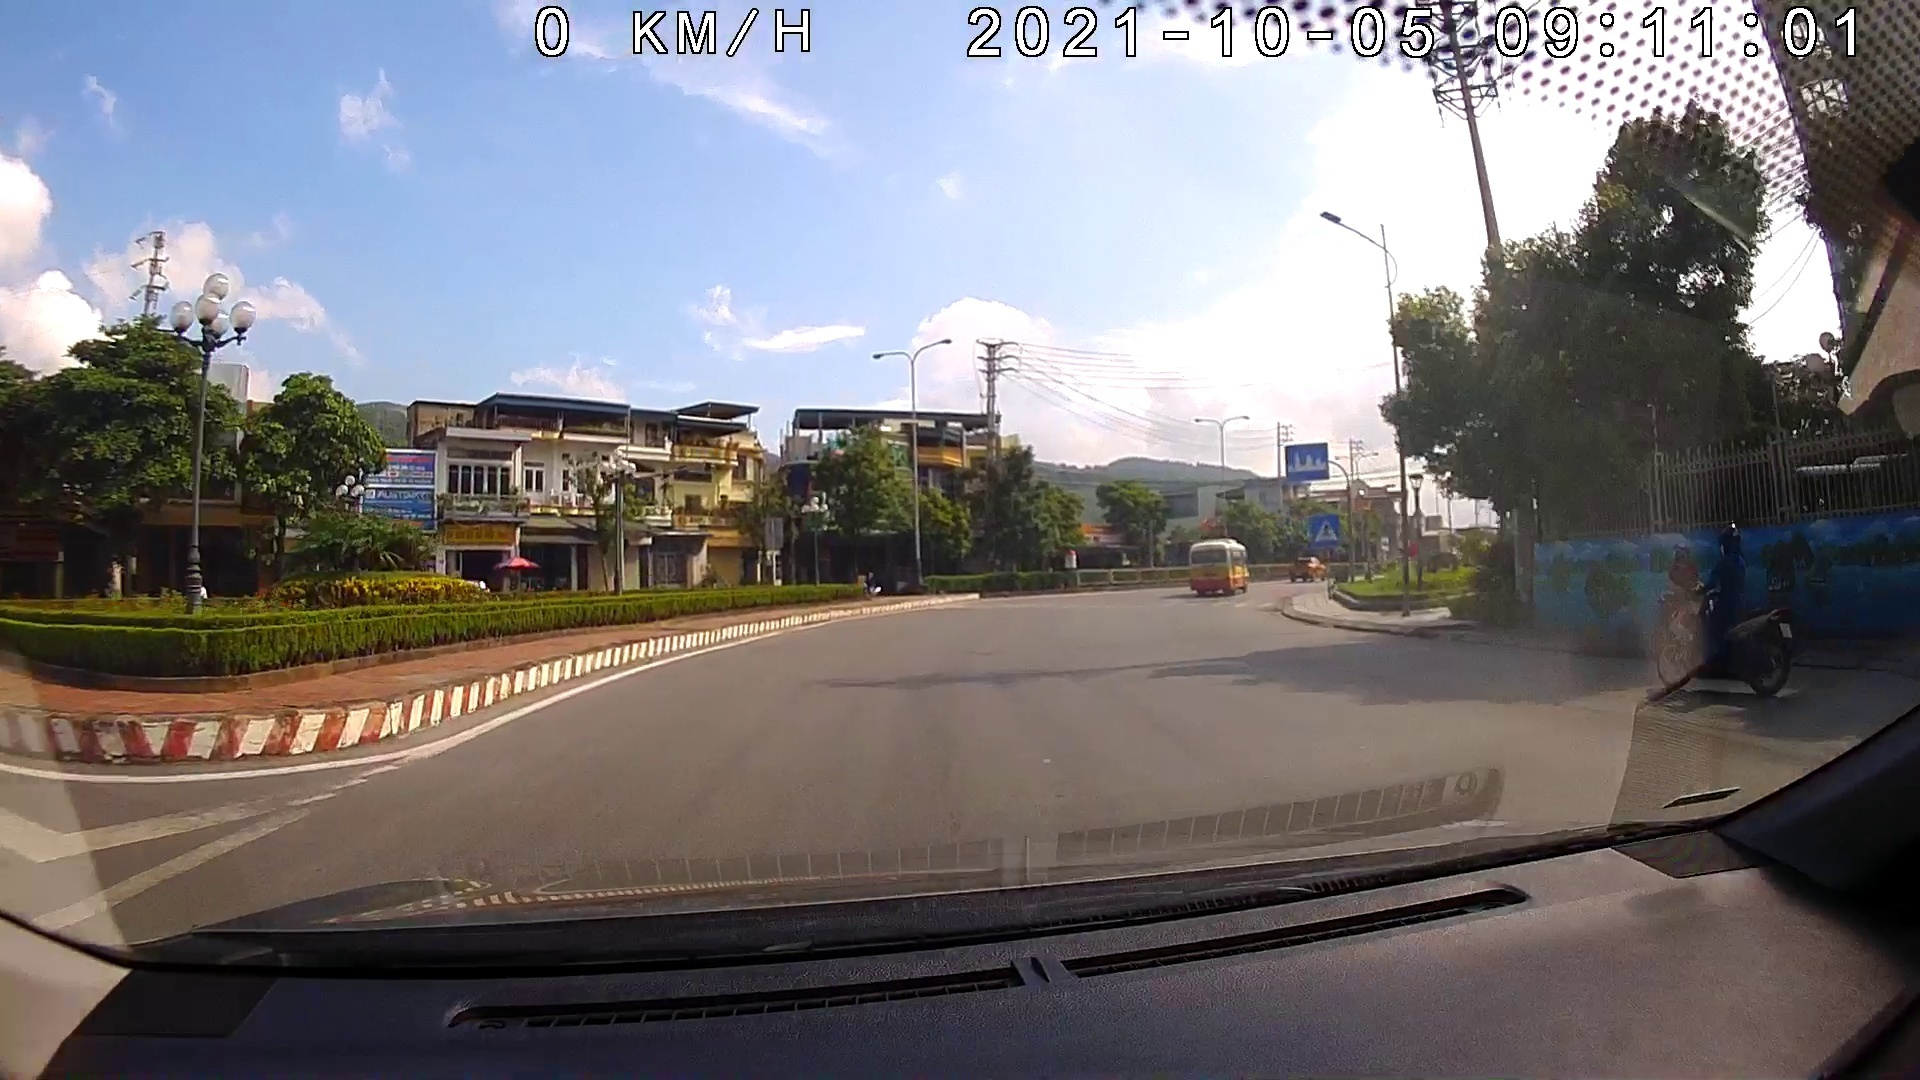Bien khac: (1284, 440, 1331, 477)
Nguoi di bo: (1308, 512, 1338, 545)
